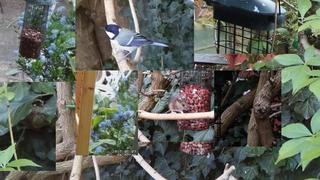great tit: (99, 24, 170, 64)
mouse: (154, 94, 190, 121)
